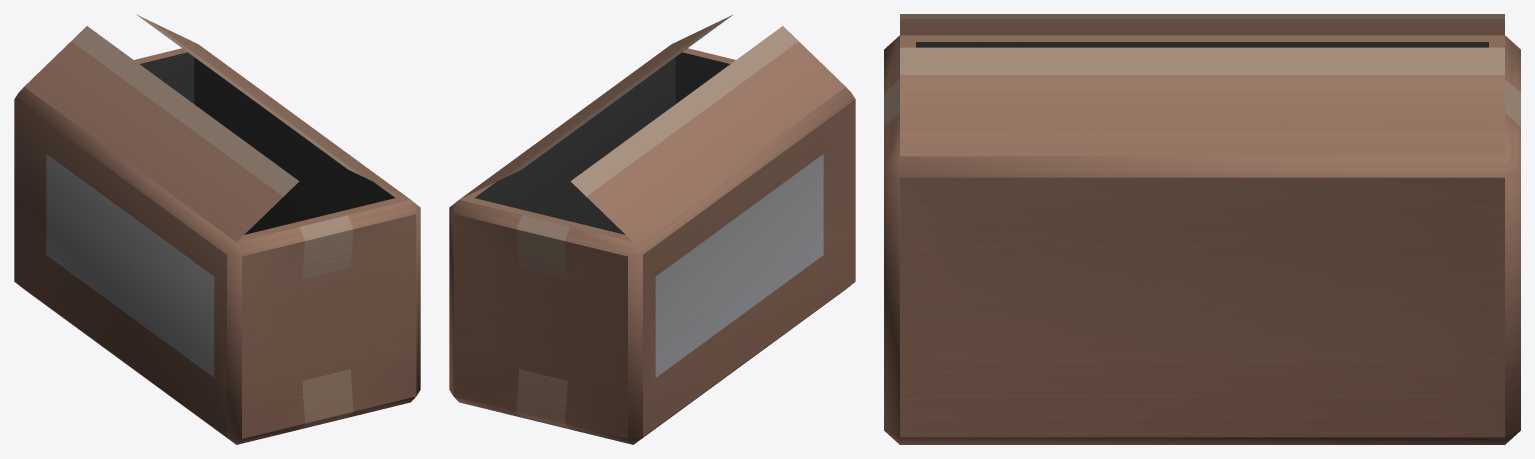
File: crate_large_open.glb
3 views of the same model, side by side, from view 1: azimuth 30°, elevation 25°; view 2: azimuth 150°, elevation 25°; view 3: azimuth 270°, elevation 25° (orthographic). The views are drawn at different scales.
Parts seen in each view (by area): view 1: box-large-open; view 2: box-large-open; view 3: box-large-open.
Part boxes in pixels (x1,y1,x2,y2): box-large-open: (14,14,420,444); box-large-open: (449,14,855,444); box-large-open: (884,14,1520,444).
Size of the model in its own units: 0.6625 by 0.8116 by 1.33.
Materials: 1 (1 with a texture image).
